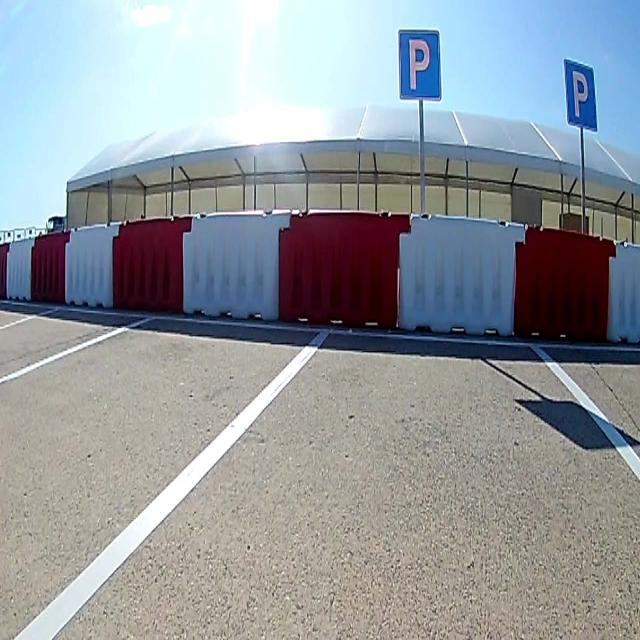park: (398, 29, 442, 100), (564, 59, 598, 129)
